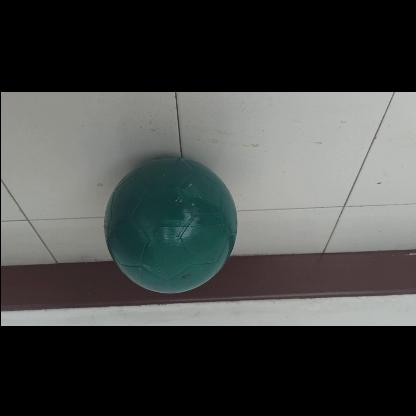green_ball: (101, 155, 237, 291)
